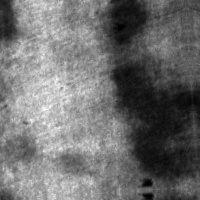patches: (110, 57, 197, 182), (100, 0, 146, 48), (0, 0, 19, 47)
